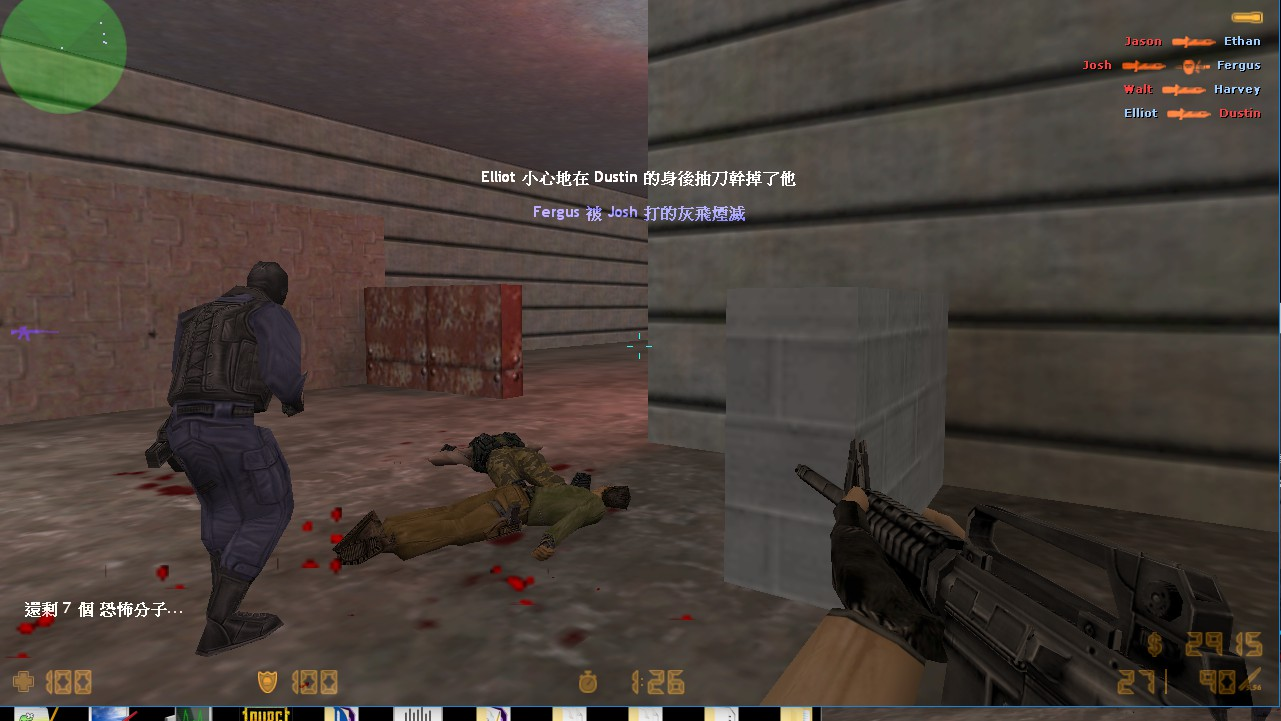person: (140, 259, 304, 668)
